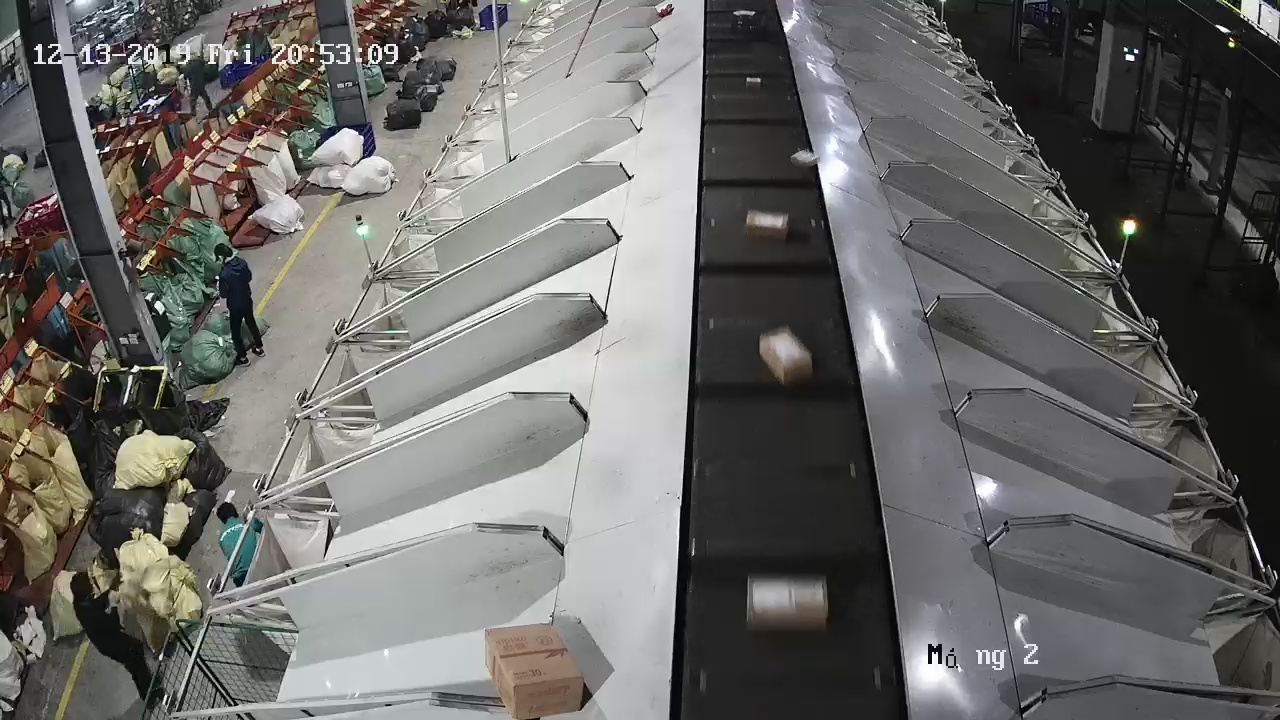parcel: (788, 148, 820, 169)
